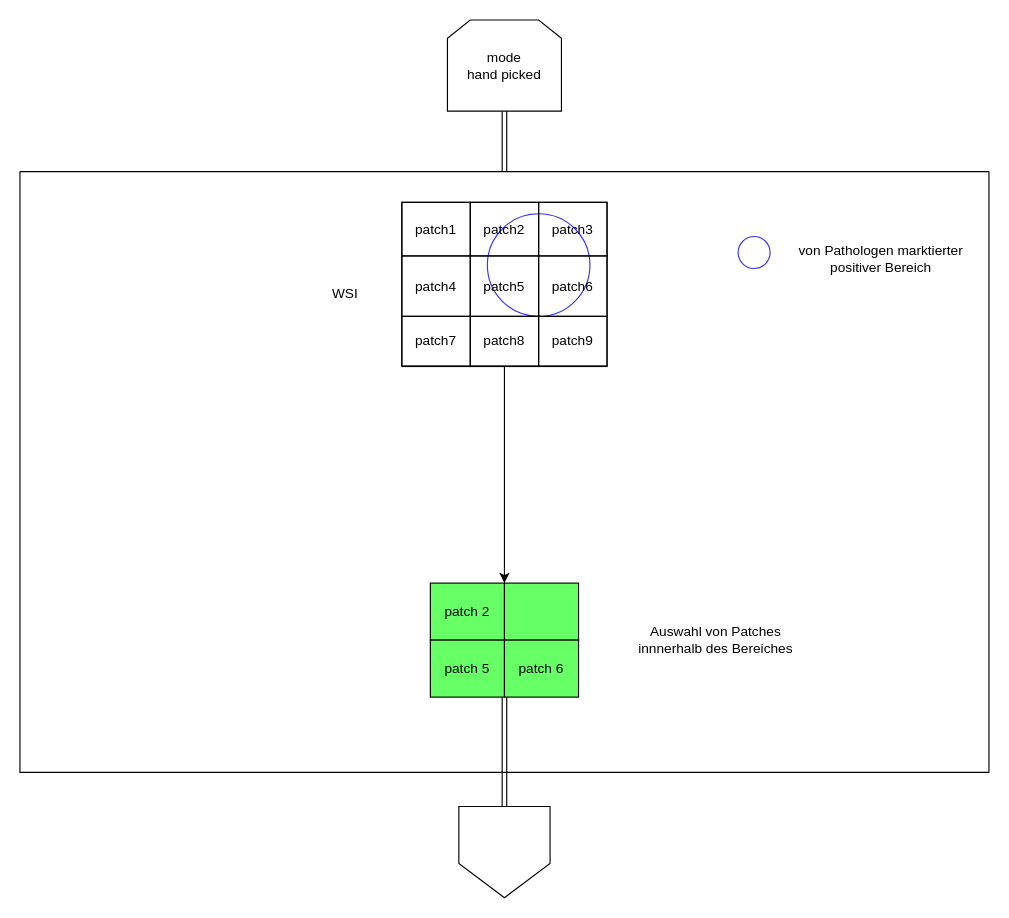
This 1009x918 diagram has some shape labels left out. The centre of each missing label's shape, as x and y in pixels:
"output" goes at pixel 504 851.
"patch 3" goes at pixel 541 611.
